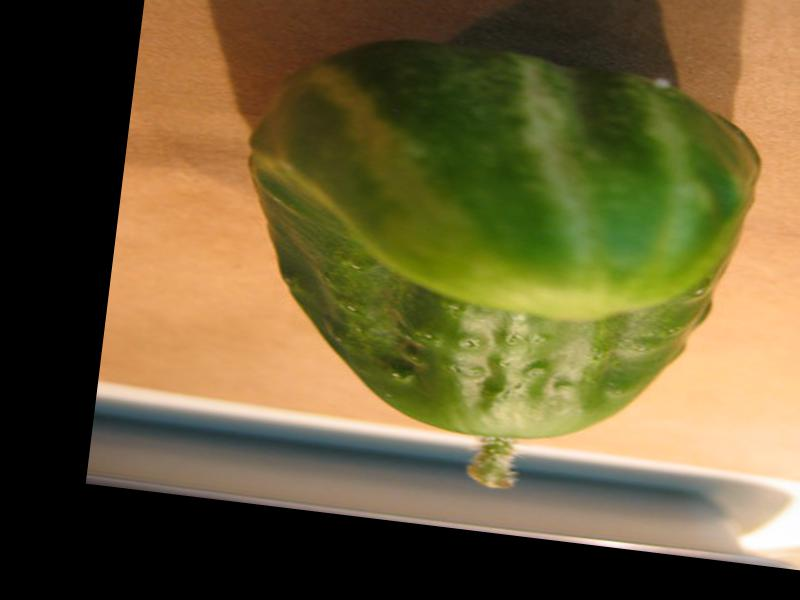Cucumber: (216, 19, 775, 516)
